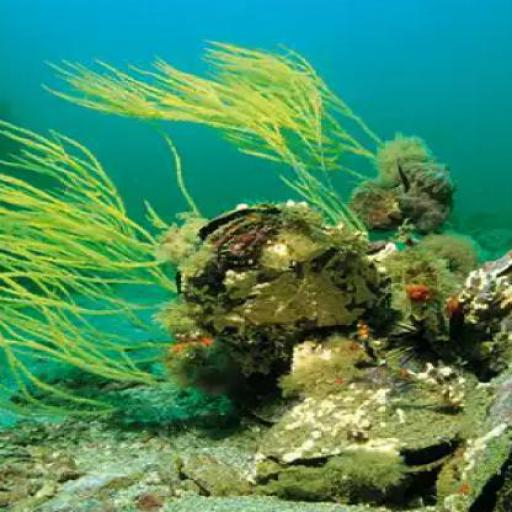Oyster-Open: (272, 374, 473, 483), (175, 206, 330, 322), (433, 430, 512, 512), (396, 153, 464, 242), (475, 256, 512, 288)
